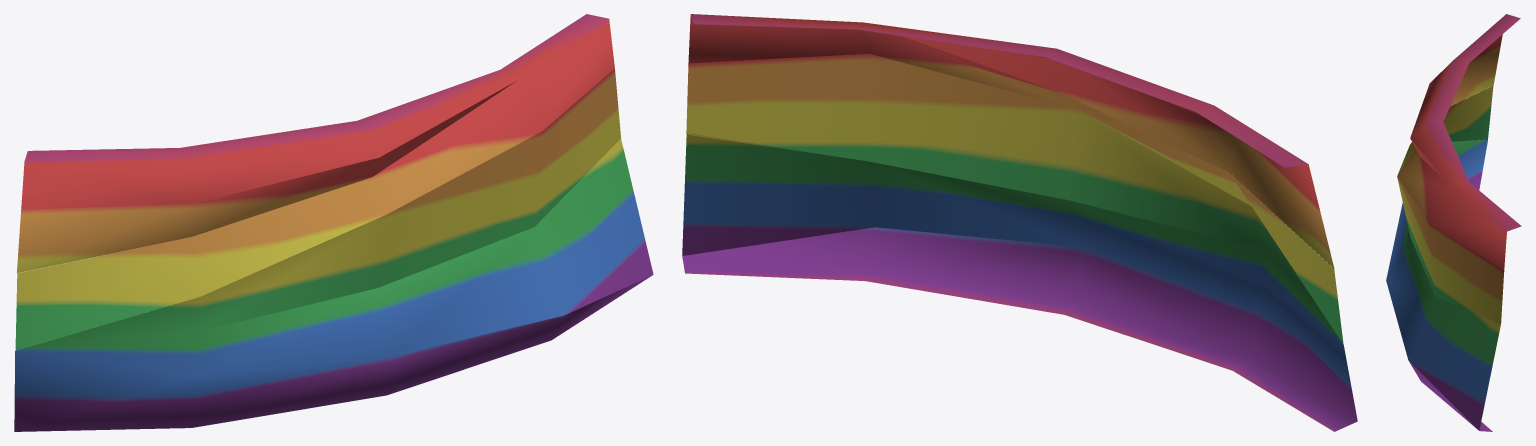
File: rainbow_belt.obj
3 renders of one model, left to right at view 1: azimuth 30°, elevation 25°; view 2: azimuth 150°, elevation 25°; view 3: azimuth 270°, elevation 25°, orthographic. The views are drawn at different scales.
Visible parts, largest first — view 1: Spartarelec_Left.001; view 2: Spartarelec_Left.001; view 3: Spartarelec_Left.001.
Boxes of the visible parts, left/top/right/bottom form: Spartarelec_Left.001: left=14, top=14, right=653, bottom=431; Spartarelec_Left.001: left=682, top=14, right=1357, bottom=431; Spartarelec_Left.001: left=1386, top=14, right=1521, bottom=431.
Bounding box in the file's own units: 0.2502 × 0.0964 × 0.0604.
1 material, 1 textured.
